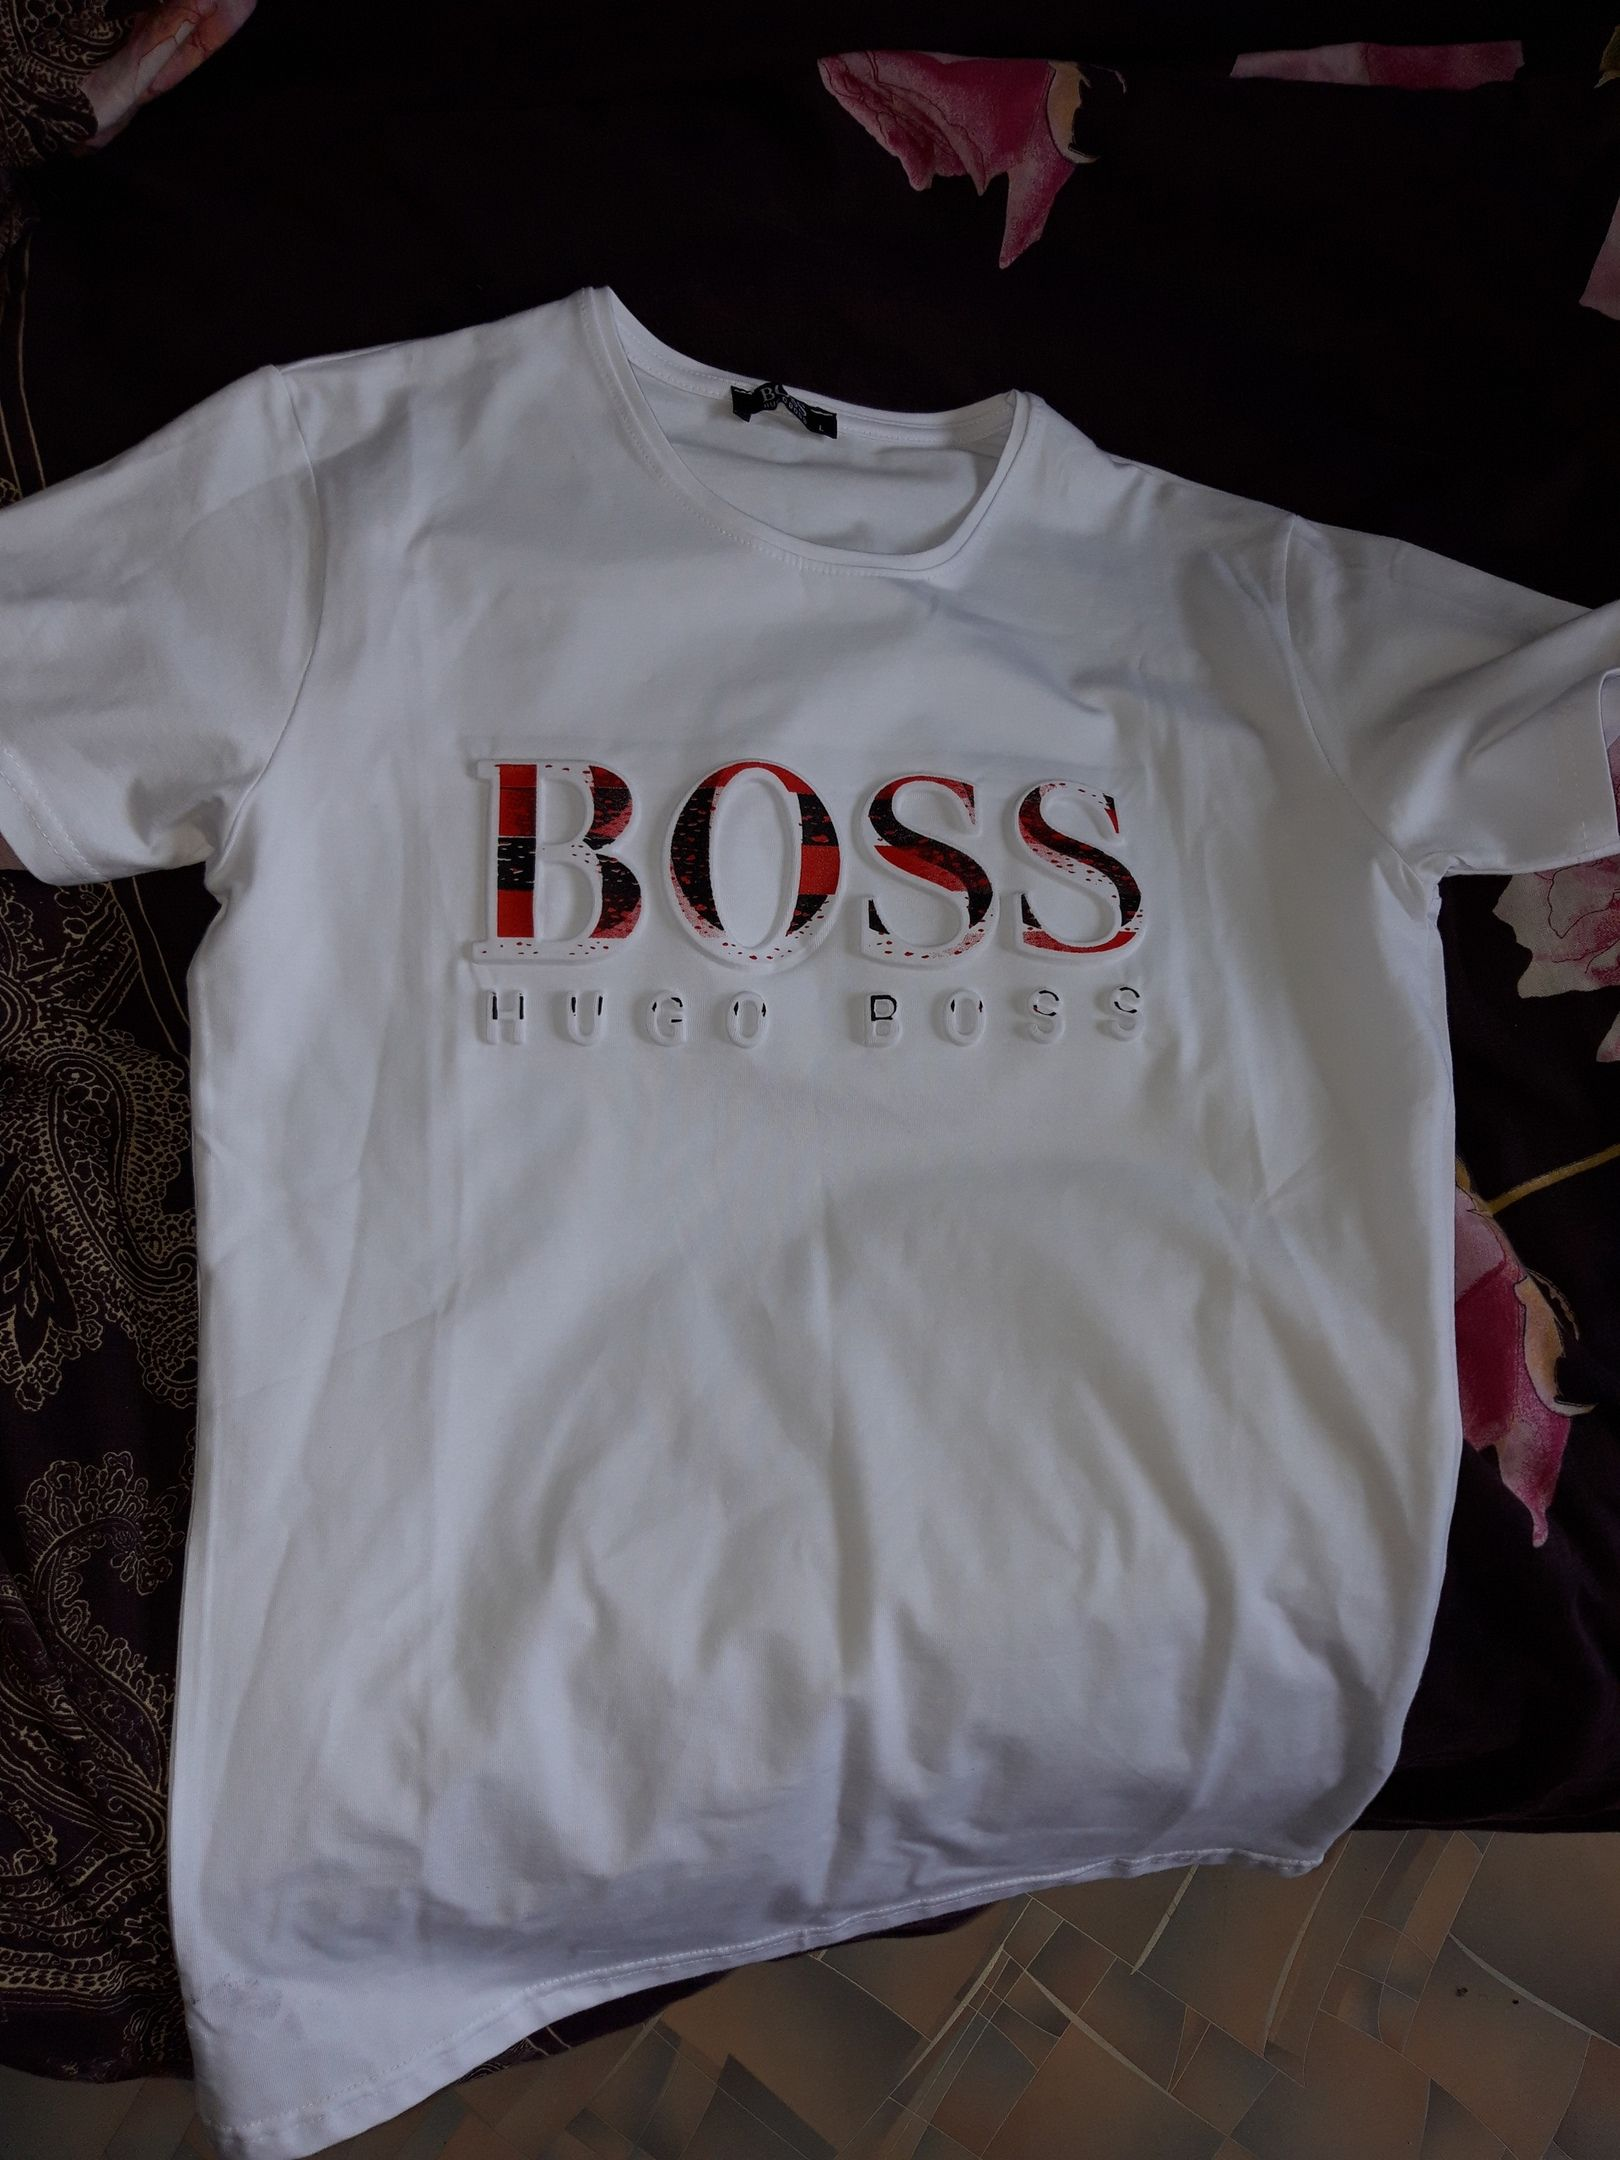clothes: (3, 260, 1620, 2160)
